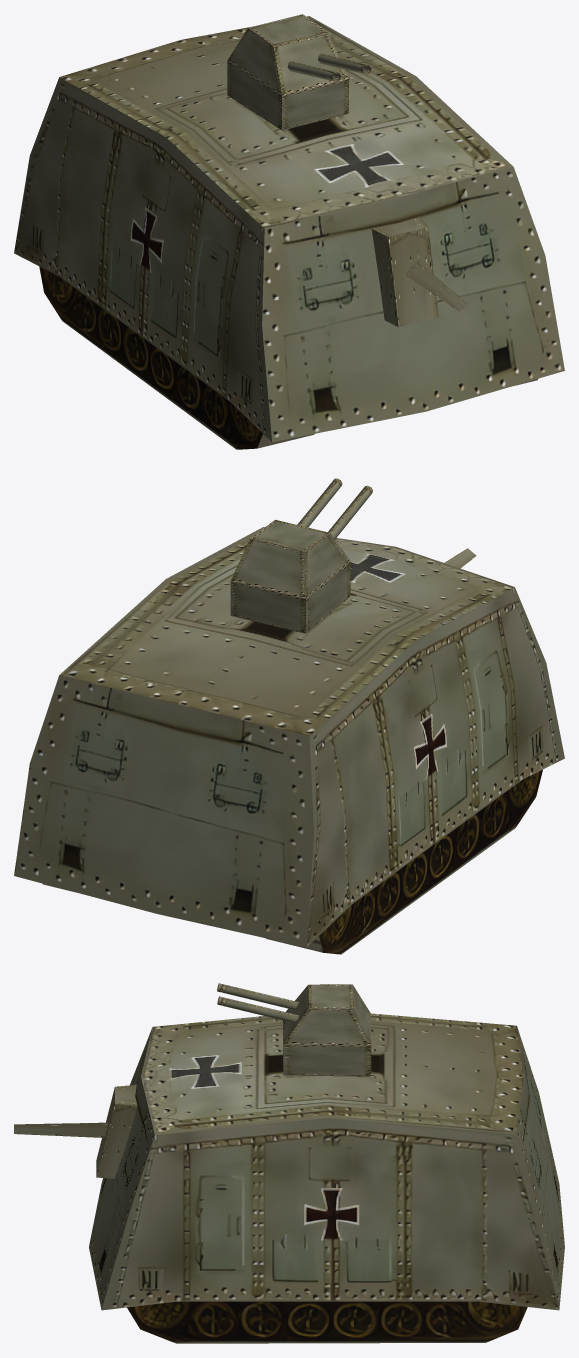
File: germantank.gltf
3 renders of one model, top to bottom at view 1: azimuth 30°, elevation 25°; view 2: azimuth 150°, elevation 25°; view 3: azimuth 270°, elevation 25°, orthographic. The views are drawn at different scales.
Visible parts, largest first — view 1: germantank_atomic1, germantank_atomic0; view 2: germantank_atomic1, germantank_atomic0; view 3: germantank_atomic1, germantank_atomic0.
Boxes of the visible parts, x1,y1,x2,y2 form: germantank_atomic1: [14, 16, 564, 449]; germantank_atomic0: [227, 14, 371, 130]; germantank_atomic1: [14, 527, 564, 954]; germantank_atomic0: [230, 478, 372, 633]; germantank_atomic1: [14, 1013, 564, 1343]; germantank_atomic0: [217, 983, 371, 1076].
Bounding box in the file's own units: 17.2 × 18.51 × 31.61.
Materials: 2 (2 with a texture image).
